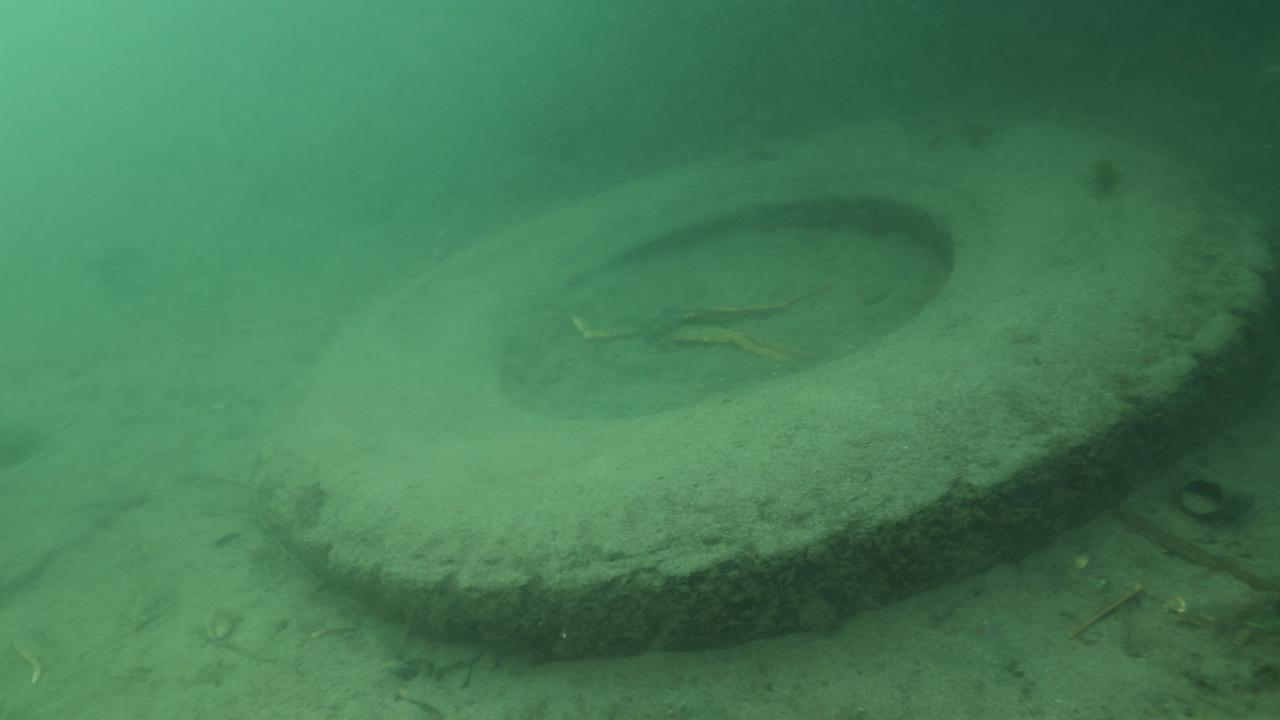tire: (271, 111, 1274, 661)
